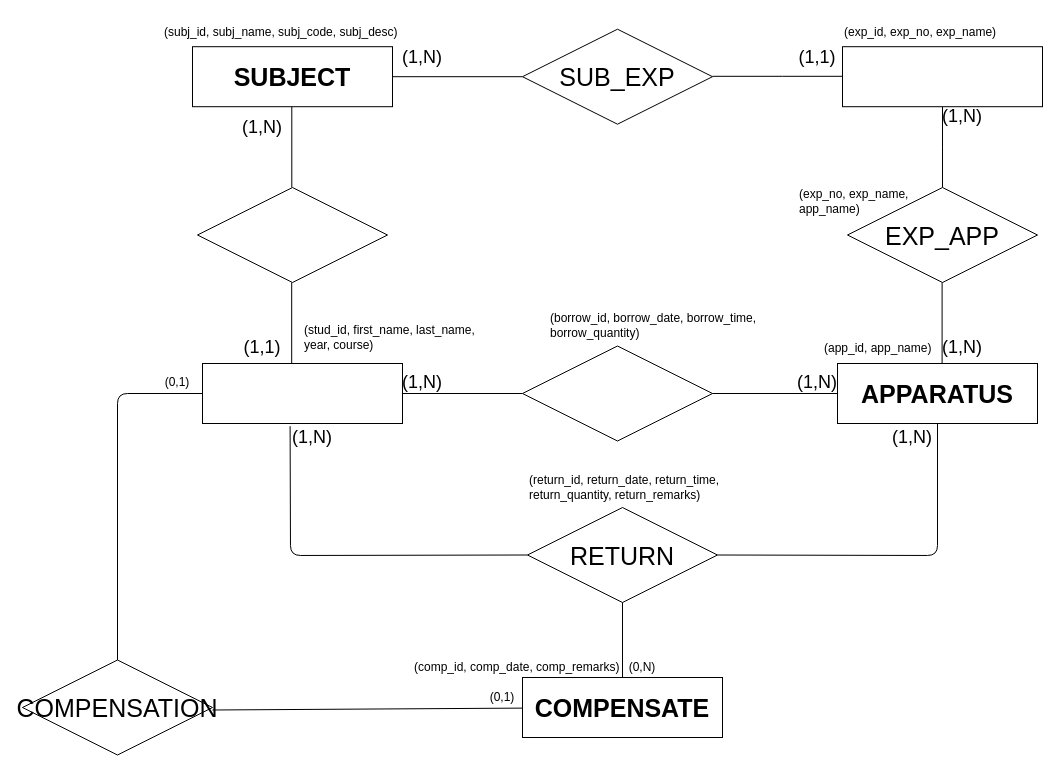
The diagram is 1060 pixels wide and 772 high, and some of its shapes have lost their labels. The shapes that lost their labels are listed below. From the top down, each one's centre as x and y in pixels, then its label:
(942,76): EXPERIMENT
(292,234): STU_SUB
(302,393): STUDENT
(617,393): BORROW
